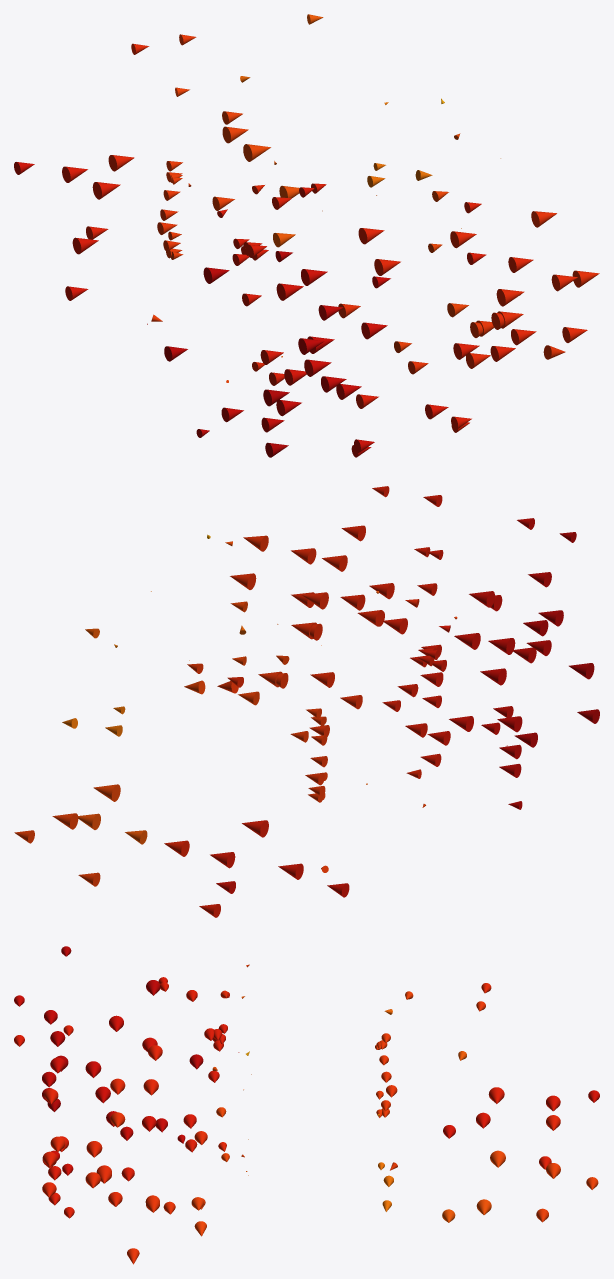
The model's file is LineasCorrienteH2-O2_mh2-8.20_V-1.glb.
3 renders of one model, top to bottom at view 1: azimuth 30°, elevation 25°; view 2: azimuth 150°, elevation 25°; view 3: azimuth 270°, elevation 25°, orthographic. The views are drawn at different scales.
Bounding box in the file's own units: 0.000788 × 0.000486 × 0.00123.
2 materials, 2 textured.
